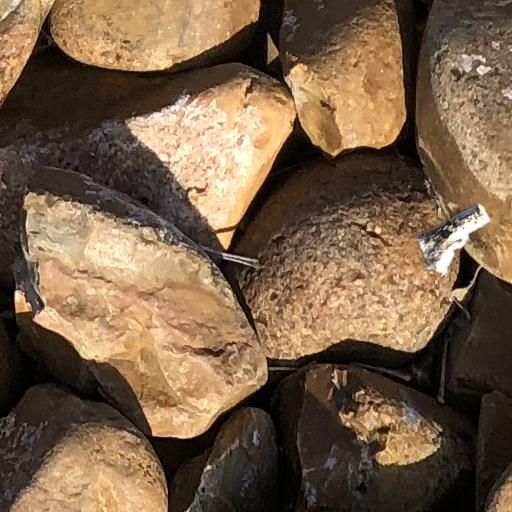smoke: (418, 205, 490, 274)
